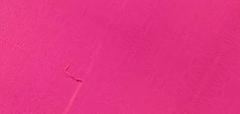snag: (62, 63, 88, 85)
